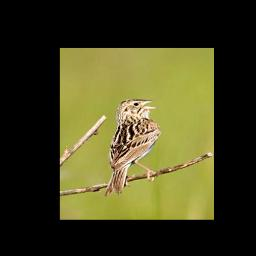Sparrow: (103, 97, 162, 198)
